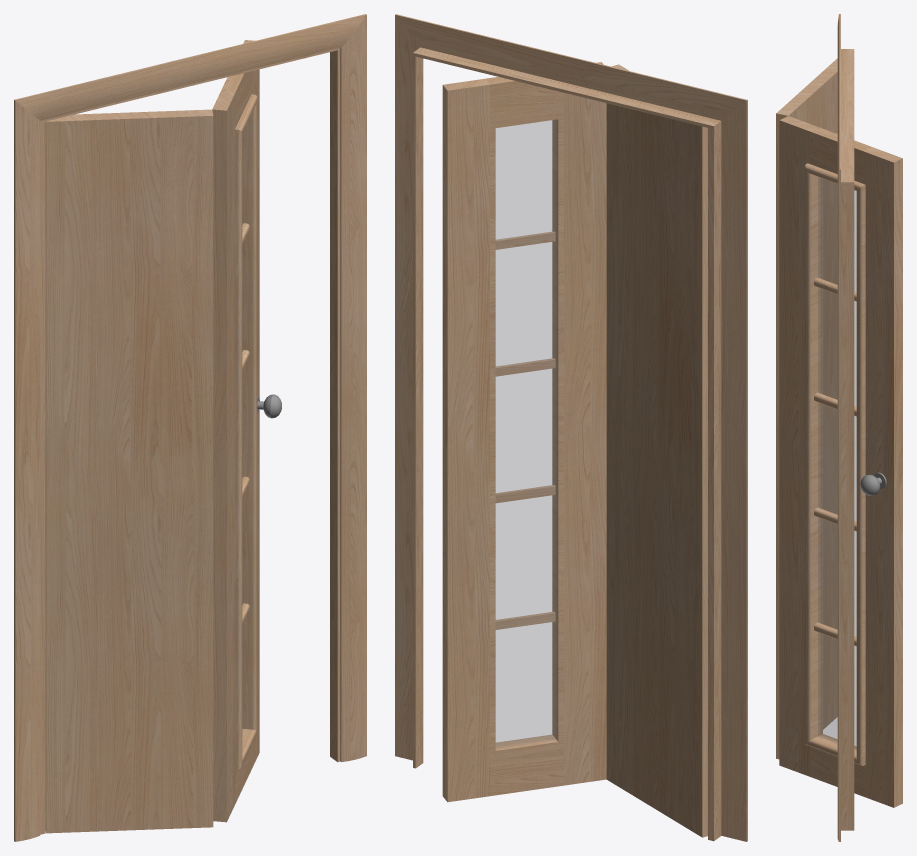
The model's file is door16.FBX.
3 renders of one model, left to right at view 1: azimuth 30°, elevation 25°; view 2: azimuth 150°, elevation 25°; view 3: azimuth 270°, elevation 25°, orthographic. The views are drawn at different scales.
Parts seen in each view (by area): view 1: doors, frame; view 2: doors, frame; view 3: doors, frame.
Part boxes in pixels (x1=…): doors: x1=45, y1=40, x2=281, y2=833; frame: x1=14, y1=14, x2=366, y2=841; doors: x1=442, y1=62, x2=707, y2=837; frame: x1=395, y1=14, x2=747, y2=841; doors: x1=776, y1=58, x2=902, y2=807; frame: x1=837, y1=14, x2=854, y2=841.
Bounding box in the file's own units: 109 × 219 × 37.35.
